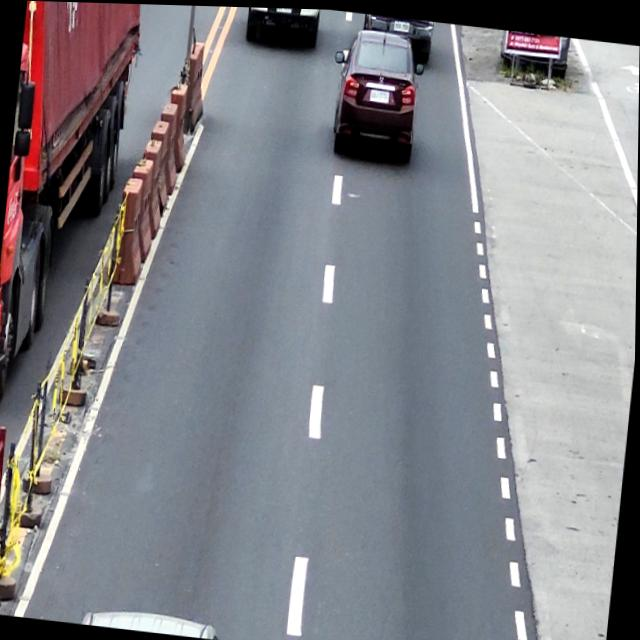Car: (326, 24, 425, 163), (361, 11, 435, 65), (244, 6, 321, 47)
License-Plate: (370, 87, 389, 101), (393, 18, 409, 29), (276, 6, 292, 11)
Truck: (0, 0, 147, 420)
